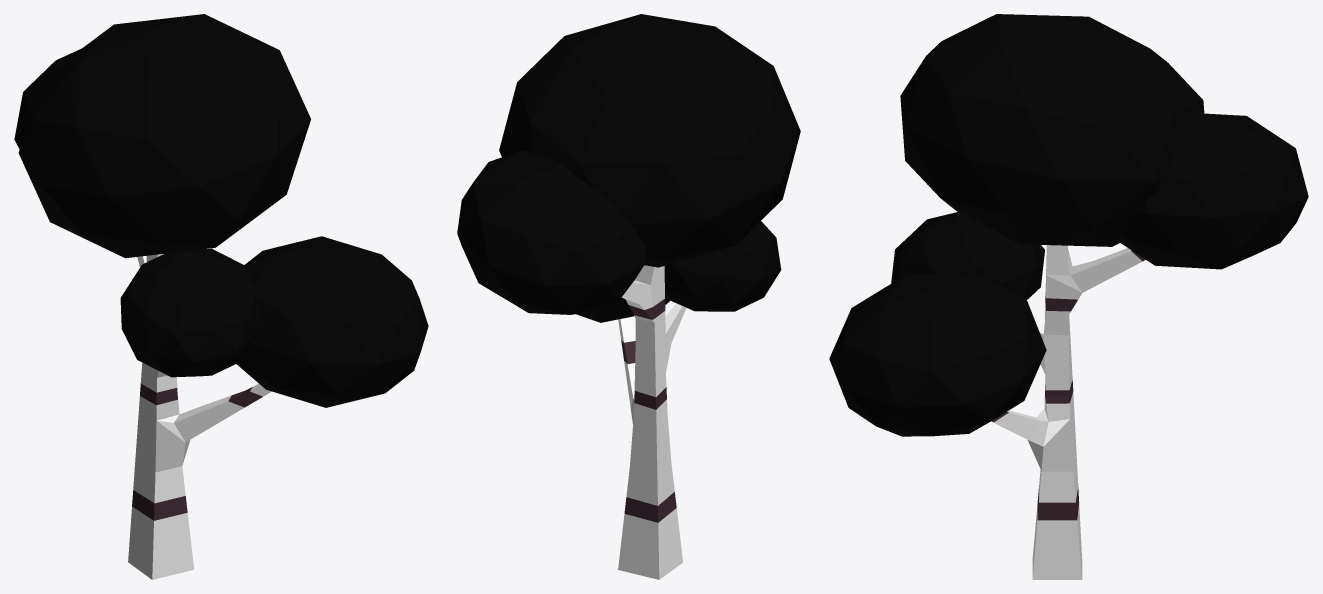
File: Tree_14.fbx
3 renders of one model, left to right at view 1: azimuth 30°, elevation 25°; view 2: azimuth 150°, elevation 25°; view 3: azimuth 270°, elevation 25°, orthographic. The views are drawn at different scales.
Visible parts, largest first — view 1: Tree_14; view 2: Tree_14; view 3: Tree_14.
Part boxes in pixels (bbox=[...]): Tree_14: bbox=[14, 14, 428, 579]; Tree_14: bbox=[457, 14, 800, 579]; Tree_14: bbox=[829, 14, 1308, 579].
Bounding box in the file's own units: 362 × 584 × 465.
